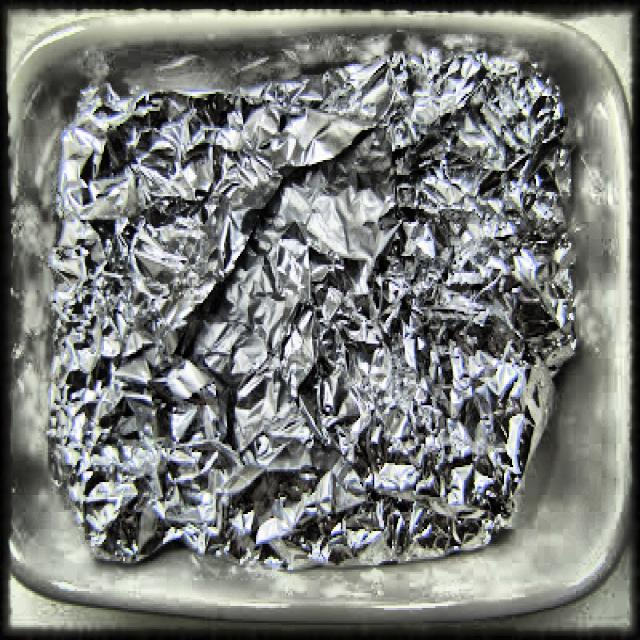Foil: (42, 45, 584, 600)
